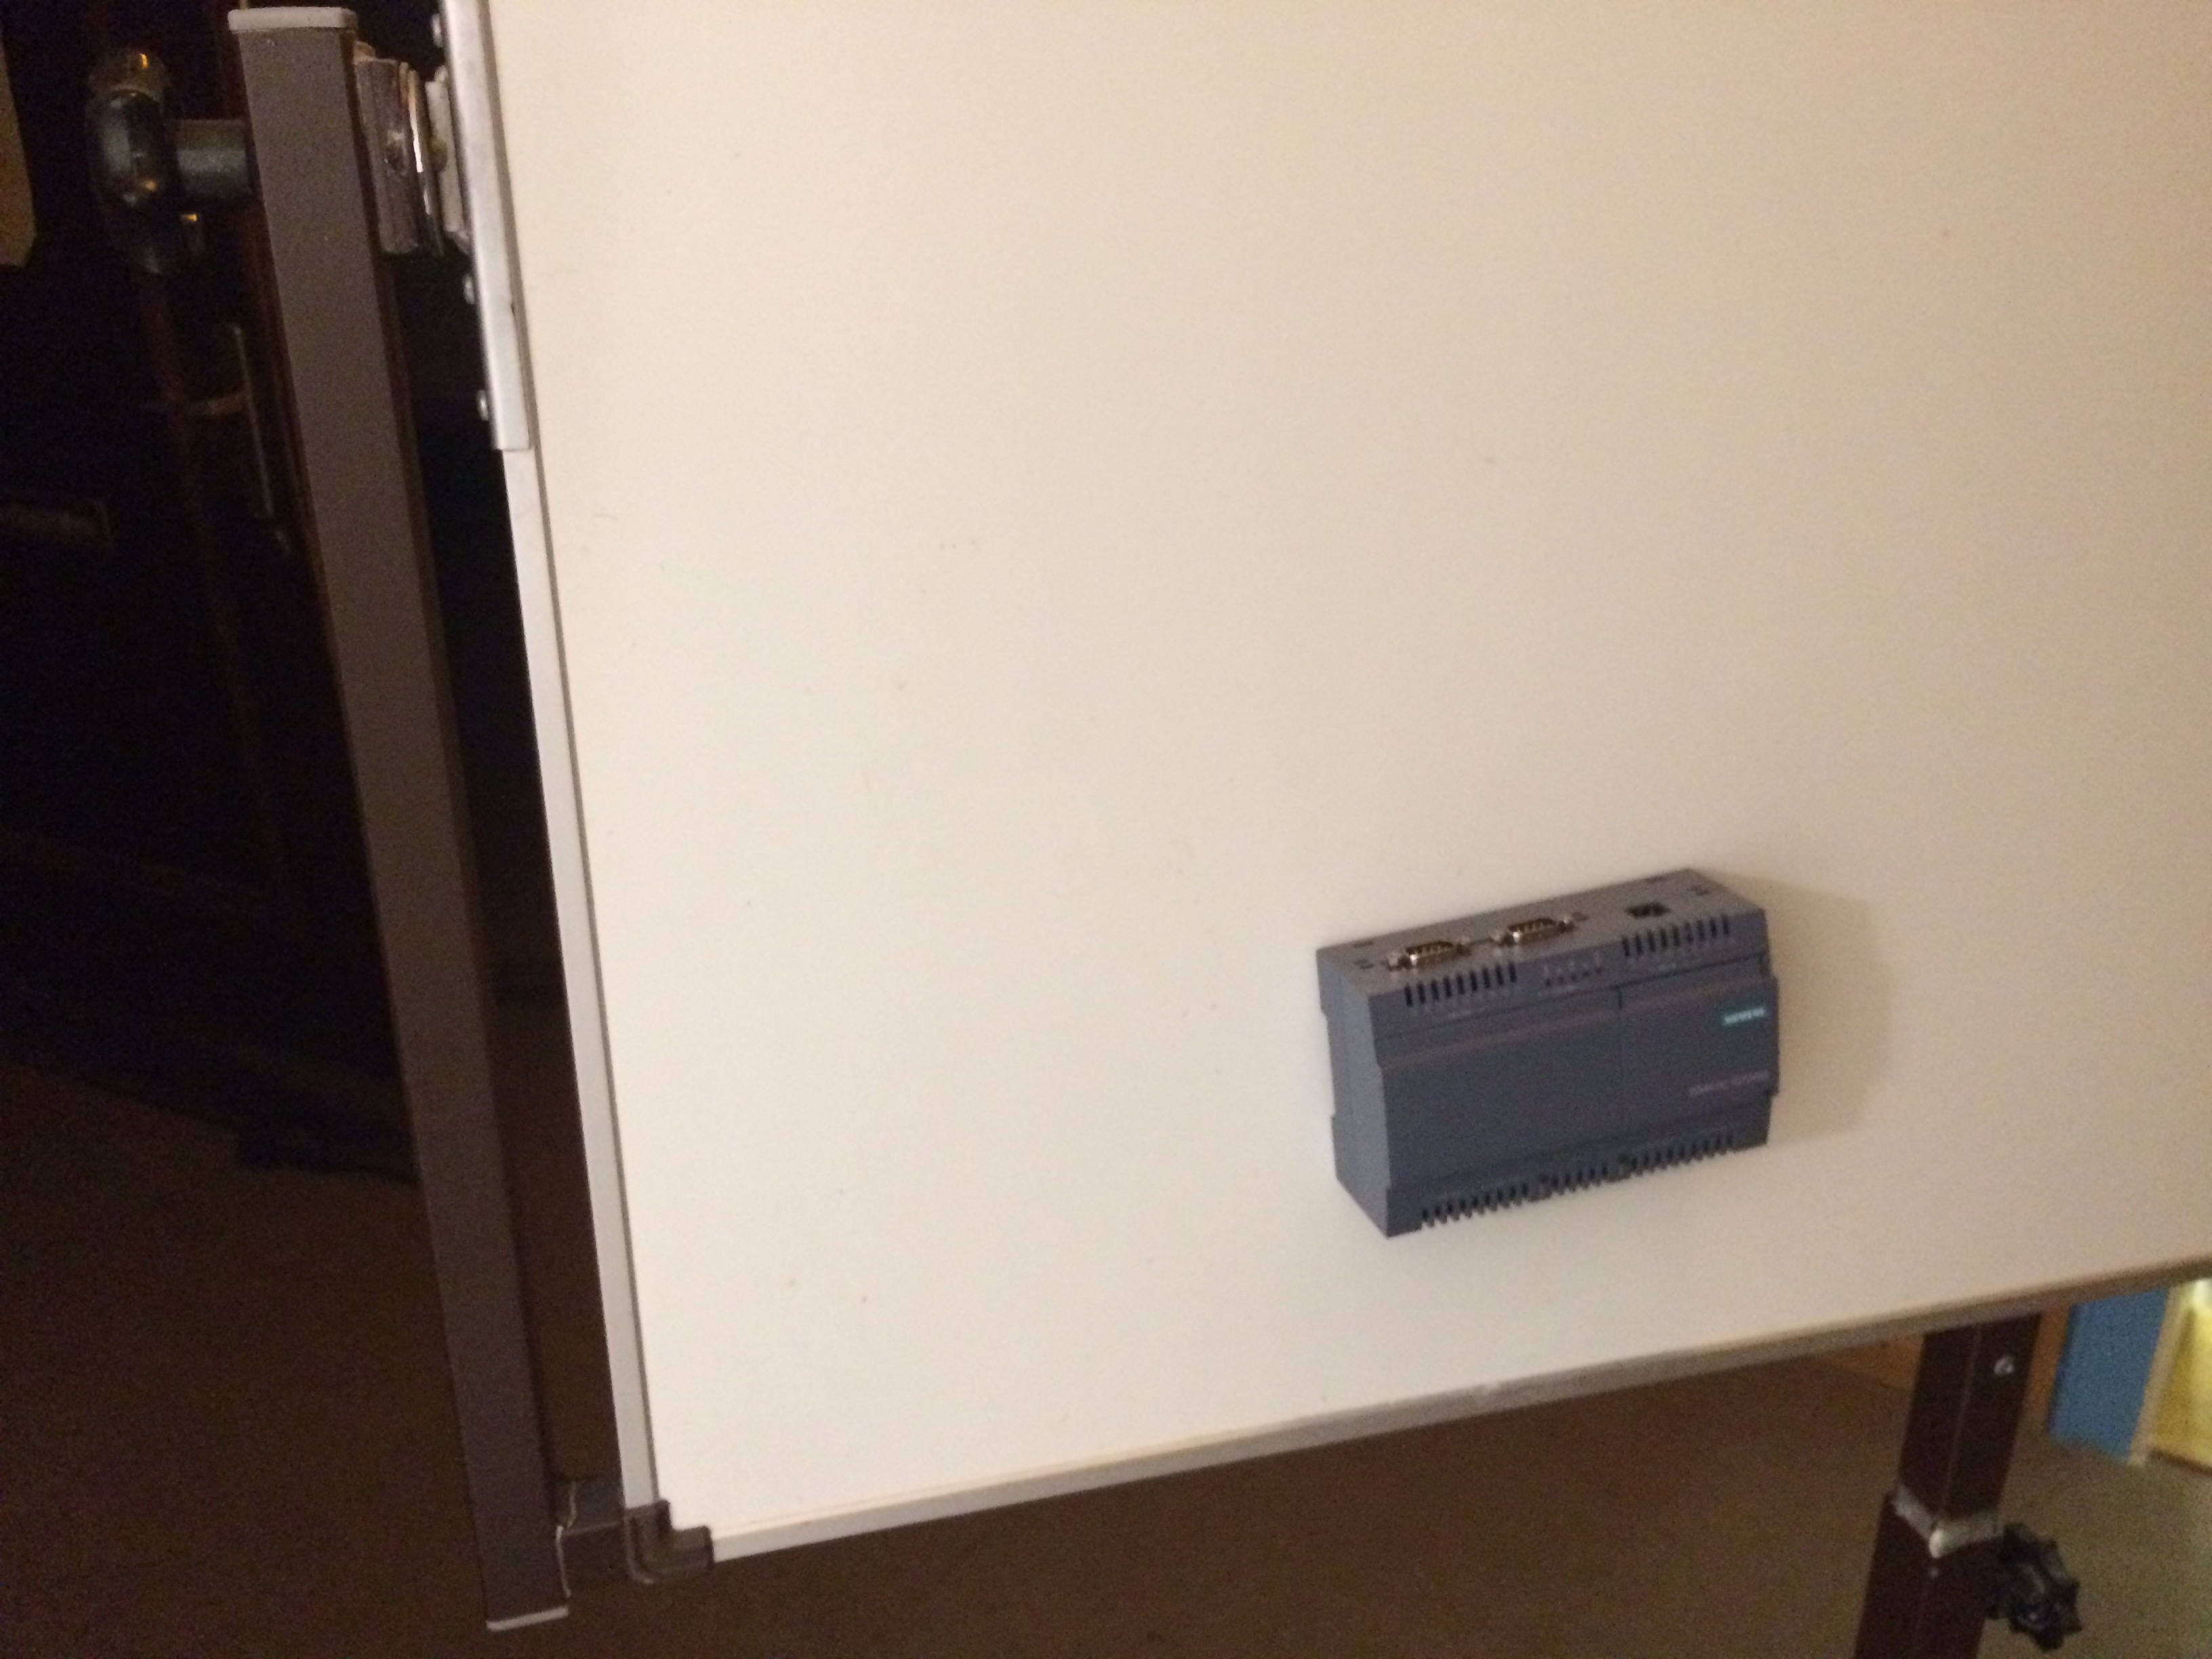iot2000: (1310, 863, 1785, 1243)
